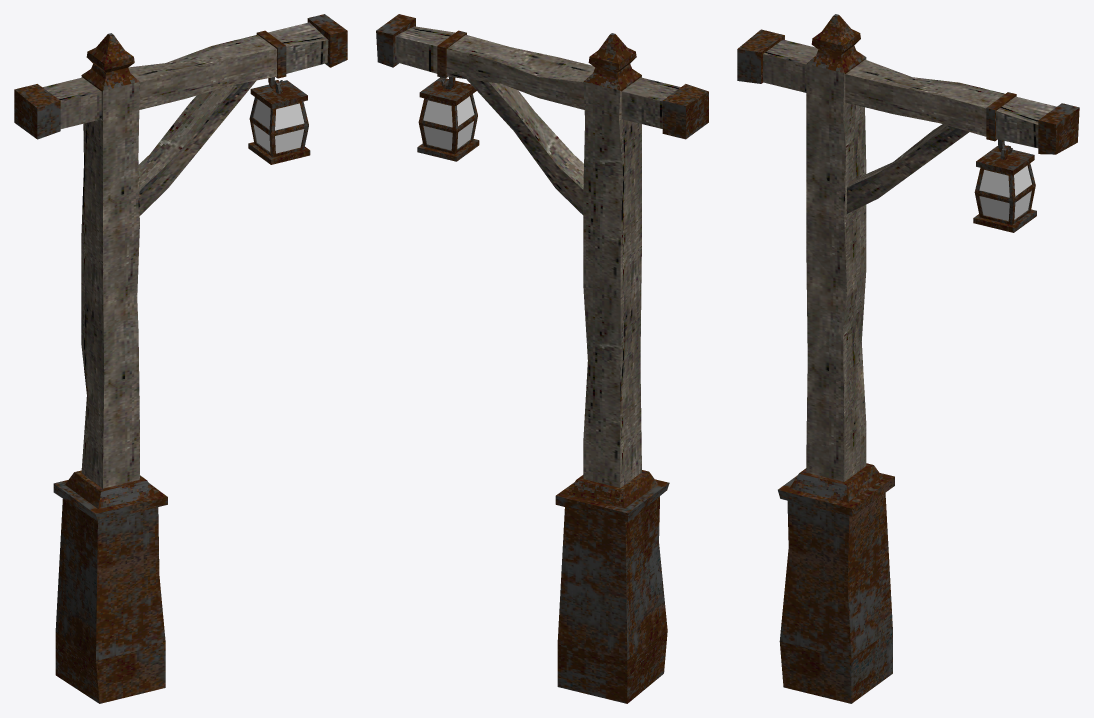
Rendered from lamp.fbx.
The picture shows the model from 3 angles, left to right: view 1: azimuth 30°, elevation 25°; view 2: azimuth 150°, elevation 25°; view 3: azimuth 330°, elevation 25°; orthographic projection. The views are drawn at different scales.
Parts seen in each view (by area): view 1: Cube.038, Cube.037; view 2: Cube.038, Cube.037; view 3: Cube.038, Cube.037.
Part boxes in pixels (bbox=[...]): Cube.038: bbox=[14, 14, 347, 703]; Cube.037: bbox=[248, 80, 310, 164]; Cube.038: bbox=[376, 14, 708, 703]; Cube.037: bbox=[417, 77, 479, 161]; Cube.038: bbox=[737, 14, 1079, 703]; Cube.037: bbox=[973, 145, 1036, 232].
Size of the model in its own units: 3.6 by 7.17 by 0.84.
